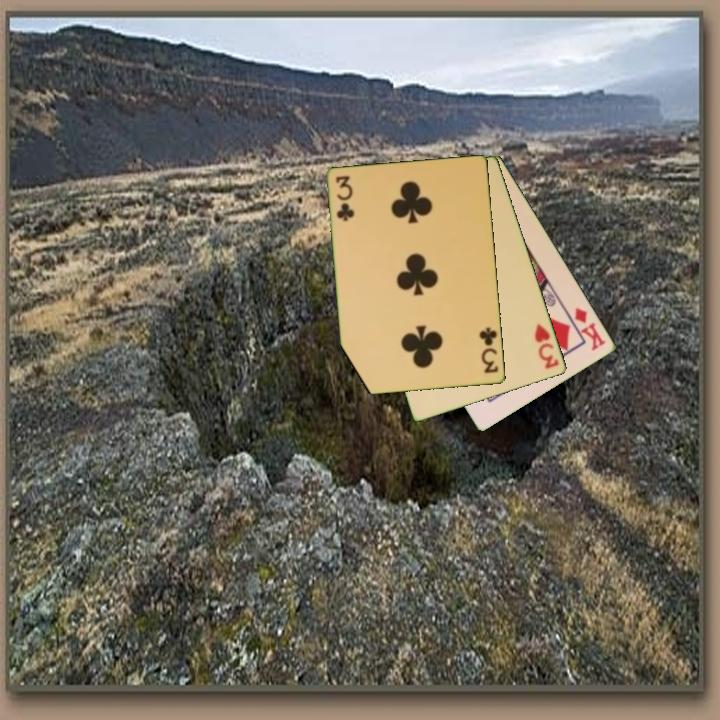3c: (476, 324, 501, 376), (333, 172, 356, 224)
3h: (531, 321, 562, 372)
Kd: (564, 304, 609, 354)
